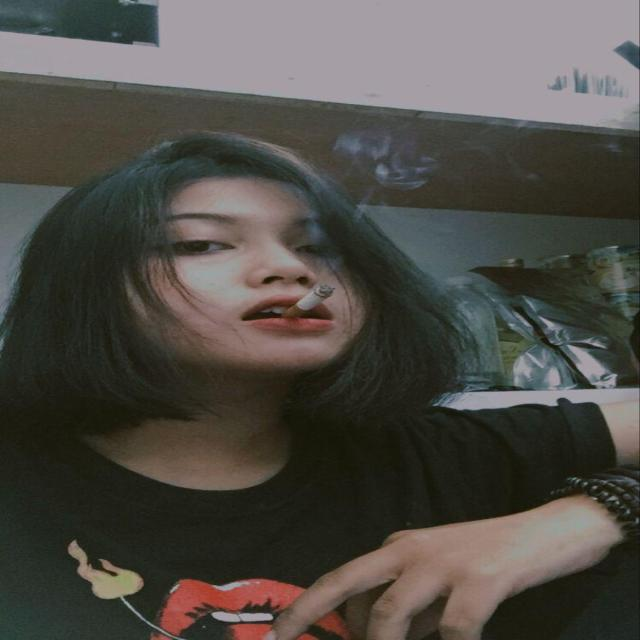cigarette: (277, 272, 354, 322)
